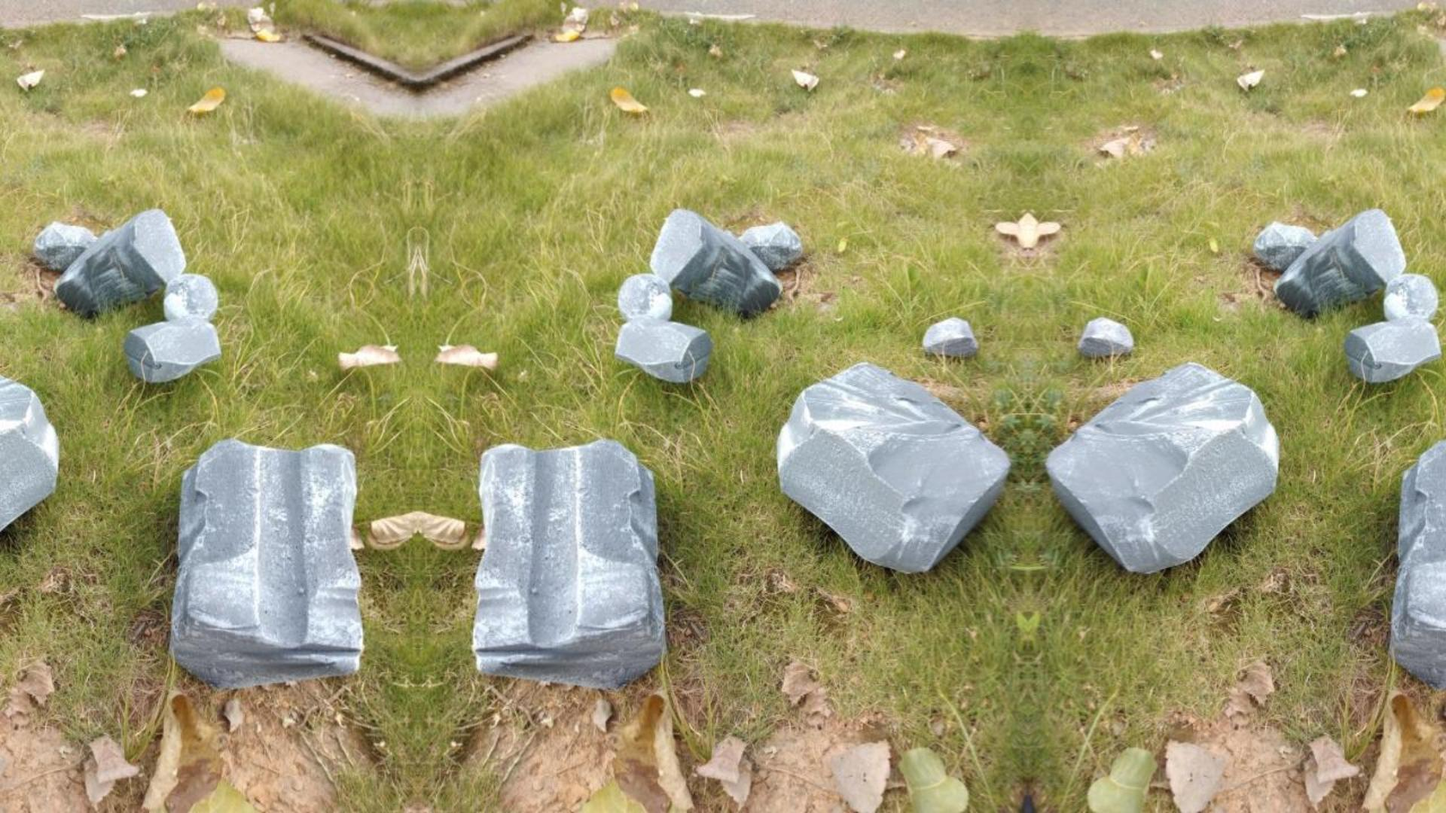rock: (1046, 362, 1278, 572), (777, 362, 1009, 571), (171, 439, 362, 687), (473, 440, 664, 687), (650, 209, 781, 316), (54, 209, 185, 316), (1274, 209, 1405, 316), (1390, 442, 1445, 688), (0, 377, 58, 528), (615, 320, 712, 382), (1343, 320, 1440, 382), (123, 321, 220, 382), (33, 221, 97, 271), (739, 221, 802, 271), (1253, 221, 1316, 271), (164, 273, 217, 321), (618, 273, 671, 320), (1384, 273, 1437, 320), (922, 317, 977, 357), (1078, 317, 1133, 357)
